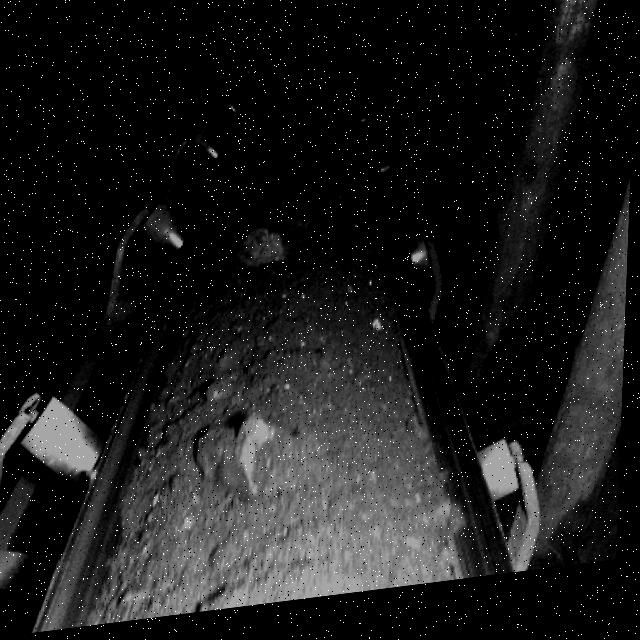large_sized_coal: (197, 423, 319, 513), (238, 209, 316, 277)
